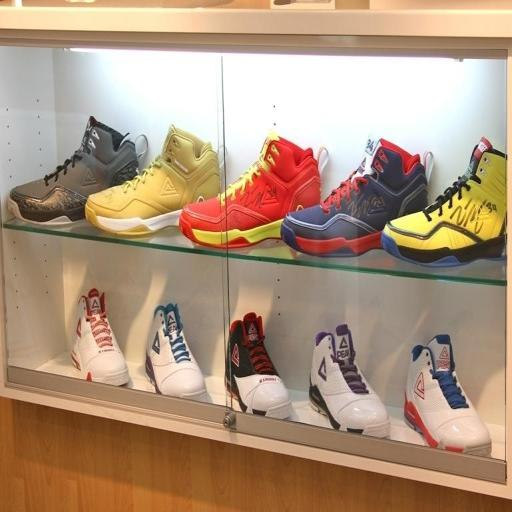shoe: (280, 139, 428, 256), (179, 132, 320, 248), (382, 137, 506, 266), (85, 126, 220, 235), (8, 116, 138, 225), (404, 334, 492, 456), (309, 324, 390, 438), (225, 312, 292, 419), (145, 303, 207, 401), (71, 288, 129, 386)
